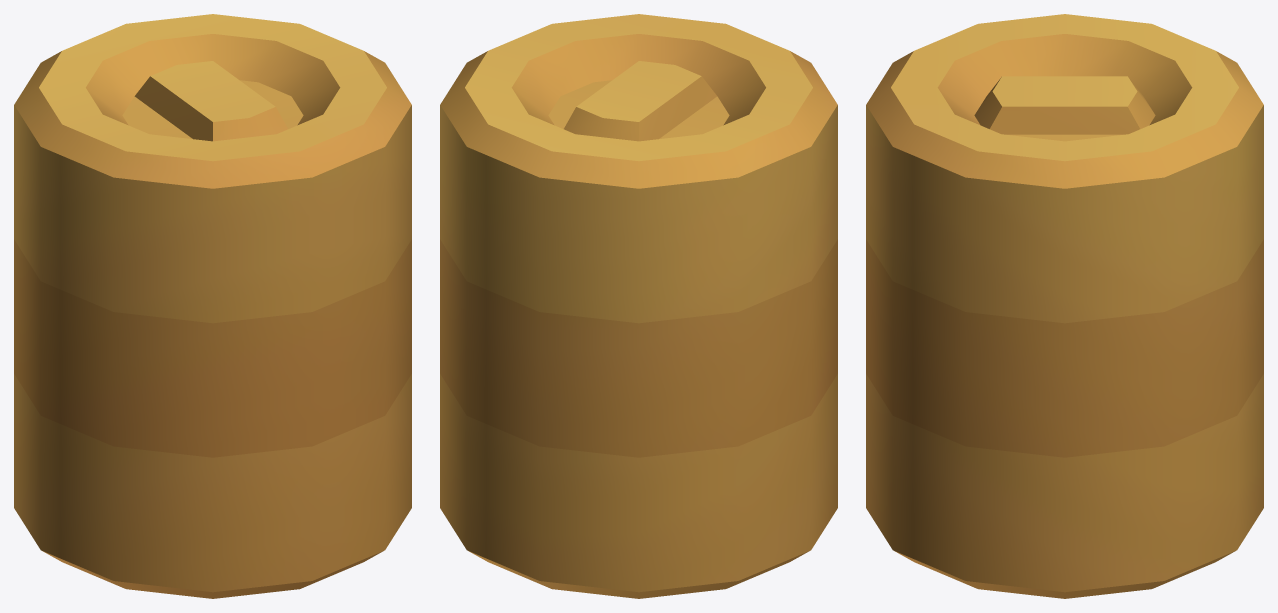
File: money_coins_stack_small.glb
3 renders of one model, left to right at view 1: azimuth 30°, elevation 25°; view 2: azimuth 150°, elevation 25°; view 3: azimuth 270°, elevation 25°, orthographic.
Parts seen in each view (by area): view 1: Money_Coins_Stack_Small; view 2: Money_Coins_Stack_Small; view 3: Money_Coins_Stack_Small.
Part boxes in pixels (box(x1,y1,x2,y2)): Money_Coins_Stack_Small: box(14, 14, 411, 598); Money_Coins_Stack_Small: box(440, 14, 837, 598); Money_Coins_Stack_Small: box(866, 14, 1263, 598).
Bounding box in the file's own units: 0.247 × 0.3 × 0.247.
Materials: 1 (1 with a texture image).
